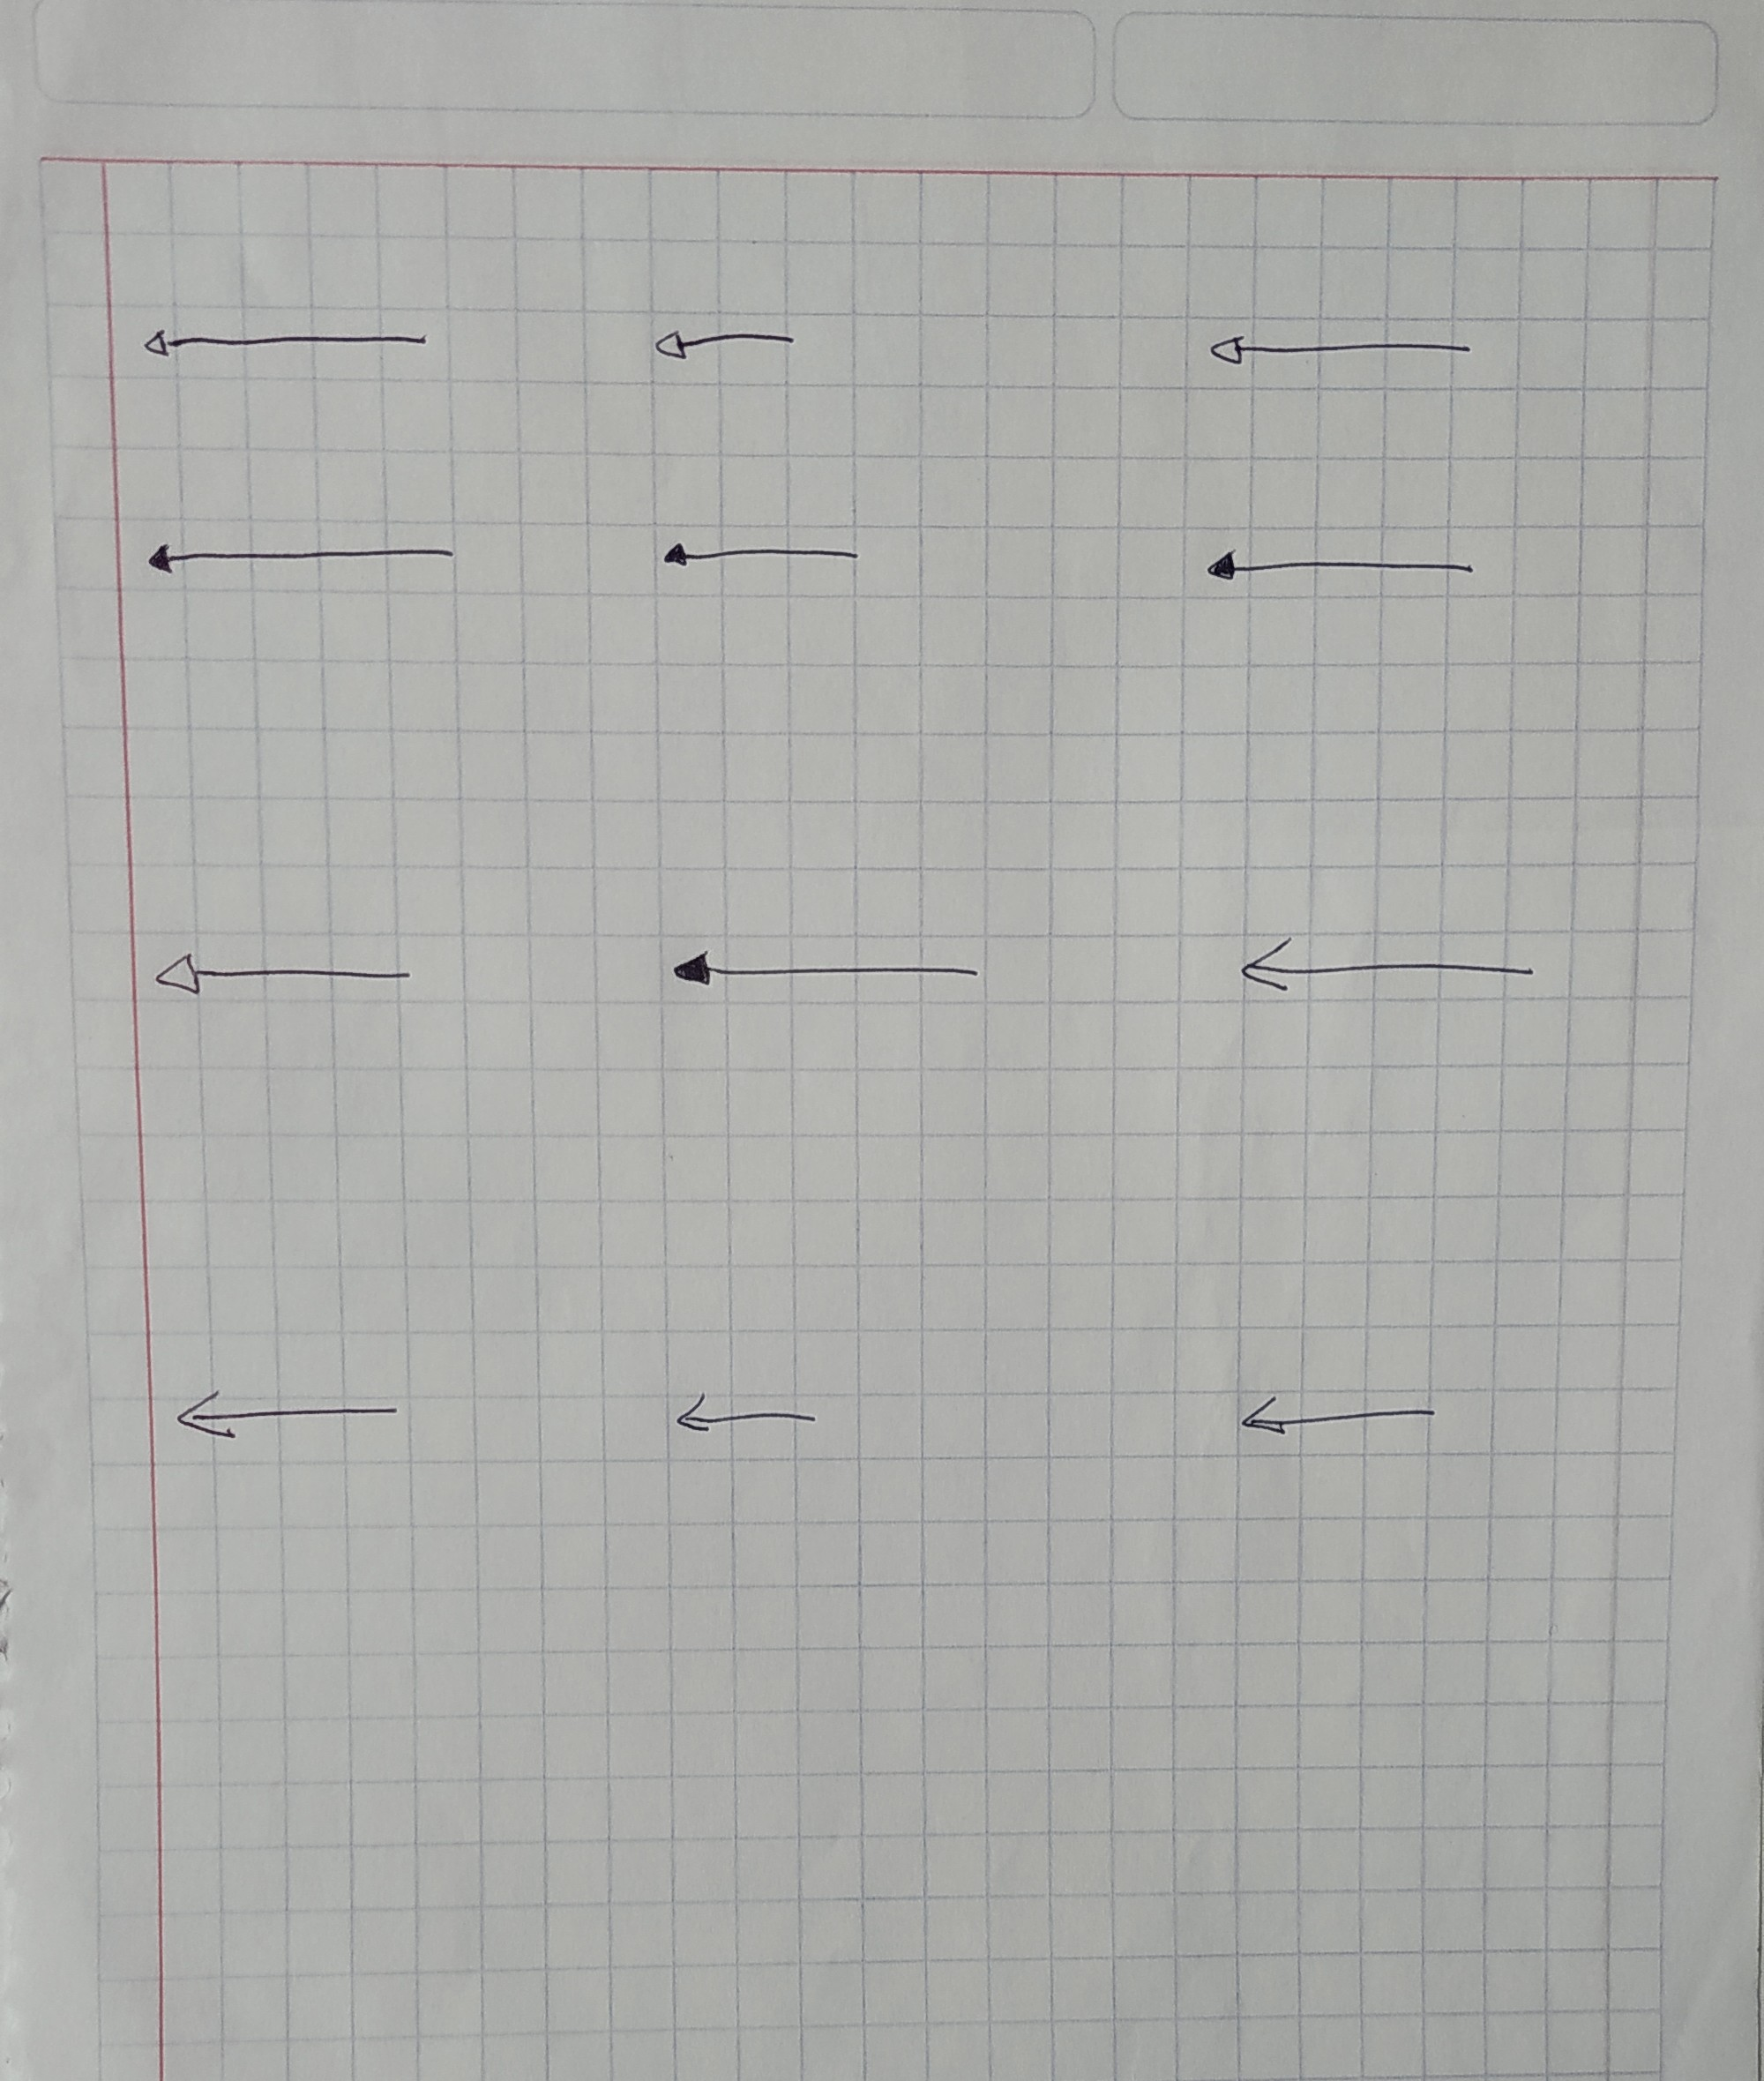arrow_line_left: (1242, 933, 1540, 1005), (166, 1381, 408, 1456), (147, 942, 418, 1005), (667, 942, 976, 996), (1202, 541, 1479, 595), (136, 319, 431, 368), (140, 541, 464, 583), (1206, 327, 1479, 376), (1237, 1386, 1440, 1449), (649, 532, 868, 581), (672, 1390, 824, 1444), (649, 319, 798, 369)
